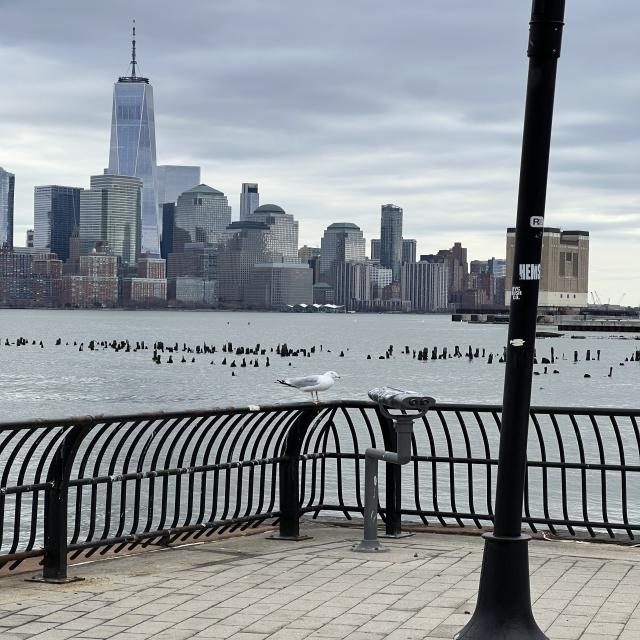WTC: (108, 21, 156, 175)
